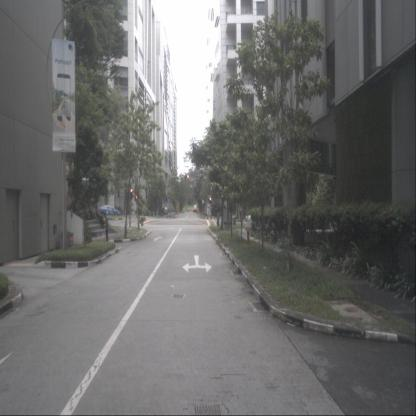human-pedestrian-adult: (104, 213, 109, 243), (99, 211, 106, 229)
vehicle-car: (98, 204, 120, 217), (163, 206, 169, 214), (193, 204, 198, 213)
